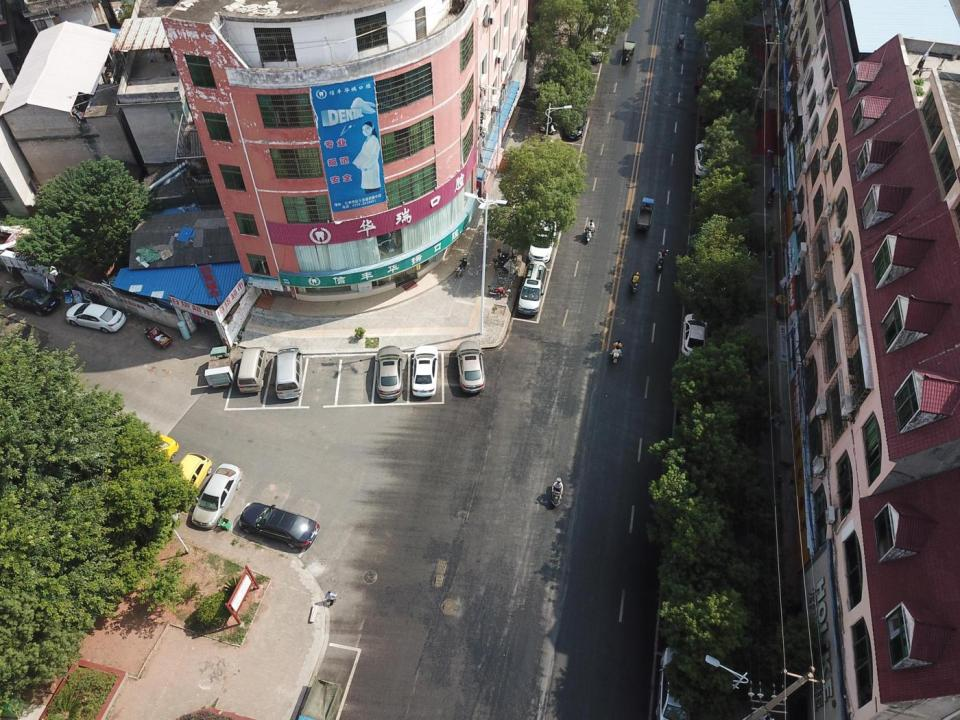car: (240, 502, 320, 549), (190, 464, 243, 530), (169, 453, 212, 514), (66, 302, 127, 332), (2, 286, 60, 316), (455, 340, 486, 393), (128, 435, 179, 467), (412, 344, 438, 398), (376, 346, 402, 398), (527, 218, 557, 263), (682, 313, 707, 356), (693, 143, 717, 176), (564, 109, 588, 139), (588, 35, 604, 64), (593, 15, 610, 35)
truck: (300, 678, 342, 720), (696, 64, 720, 117)
van: (656, 646, 692, 720), (274, 346, 302, 400), (236, 346, 268, 393)
